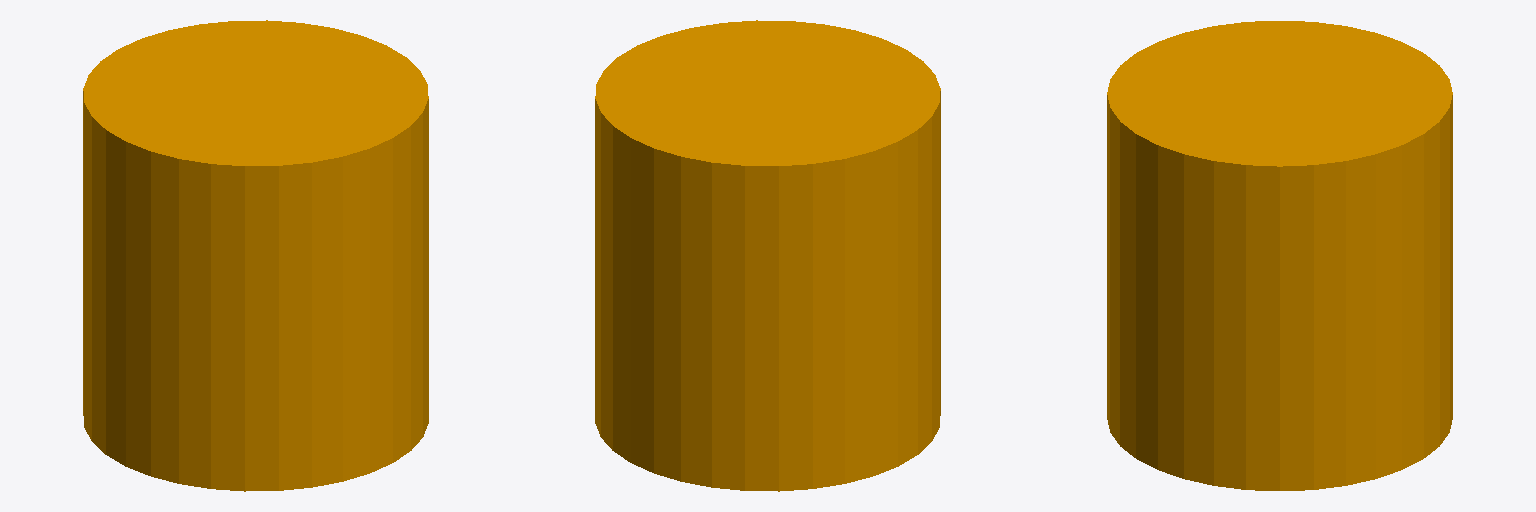
robot.urdf — bumpybot:
<?xml version="1.0"?>
<robot name="bumpybot">
  <link name="base">
    <inertial>
      <origin rpy="0 0 0" xyz="0 0 0"/>
       <mass value="20"/>
       <inertia ixx="1.13" ixy="0" ixz="0" iyy="1.13" iyz="0" izz="1.13"/> <!--0.5649801*m-->
    </inertial>
    <visual>
      <!--<origin rpy="0 0 1.57" xyz="0 0 -0.21"/>-->
      <origin rpy="0 0 0" xyz="0 0 0"/>
      <geometry>
        <cylinder length="0.6318758" radius="0.3048"/>
        <!--<mesh filename="package://meshes/bumpybot_exterior.stl" scale="0.0009 0.0009 0.0009"/>-->
      </geometry>
      <!--<material name="burnt orange">
        <color rgba="0.75 0.34 0 1"/>
      </material>-->
    </visual>
    <collision>
      <origin rpy="0 0 0" xyz="0 0 0"/>
      <geometry>
       <mesh filename="package://meshes/bumpybot_full.stl" scale="0.0015 0.0015 0.0015"/>
      </geometry>
    </collision>
  </link>

</robot>

--- What the picture shows (computed from the rendered views, not written in the file) ---
The picture shows the robot from 3 angles, left to right: view 1: azimuth 30°, elevation 25°; view 2: azimuth 150°, elevation 25°; view 3: azimuth 270°, elevation 25°; orthographic projection.
Model bumpybot with 1 links and 0 joints (none), rooted at base, posed all joints at 0.
Visible links, largest first — view 1: base; view 2: base; view 3: base.
Link boxes in pixels (x1,y1,x2,y2): base: (83, 20, 428, 491); base: (595, 20, 940, 491); base: (1107, 21, 1452, 490).
Bounding box of the posed robot: 0.6096 × 0.6096 × 0.6319 m (x, y, z).
Geometry: primitives only (box / cylinder / sphere), no mesh files.